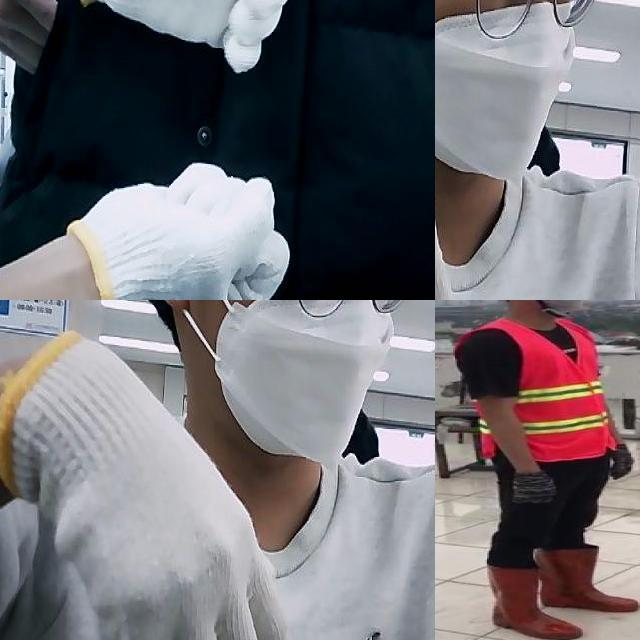BOOTS: (480, 560, 585, 640), (537, 541, 617, 614)
GLASS: (512, 468, 556, 504)
GLOVE: (0, 331, 303, 640), (66, 159, 290, 300), (74, 0, 297, 74)
VEST: (454, 322, 612, 460)
